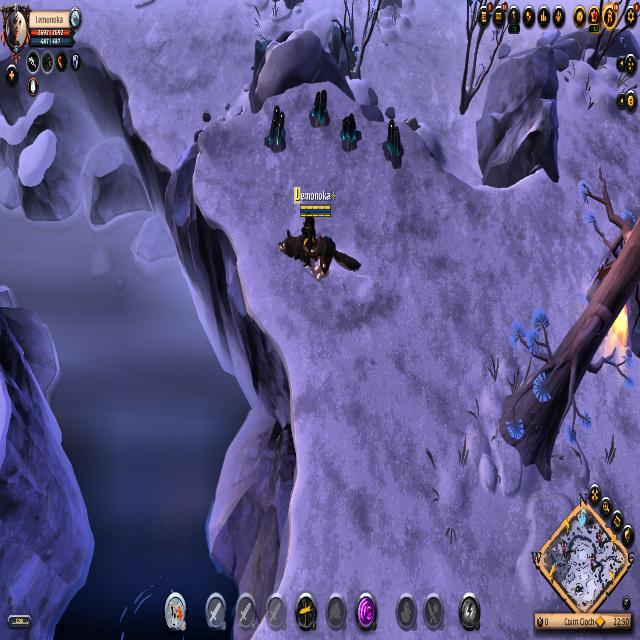ore tier 4: (382, 114, 407, 174), (263, 105, 290, 158), (305, 85, 331, 135), (338, 113, 362, 154)
